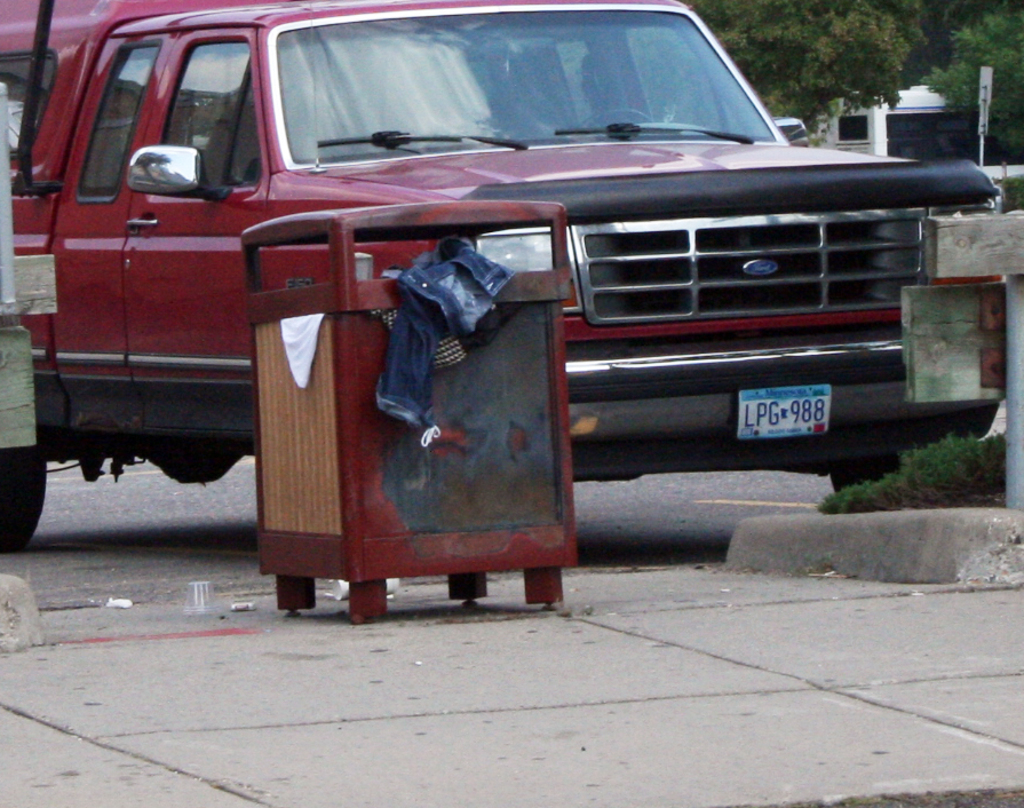Tree: (627, 0, 1024, 147)
